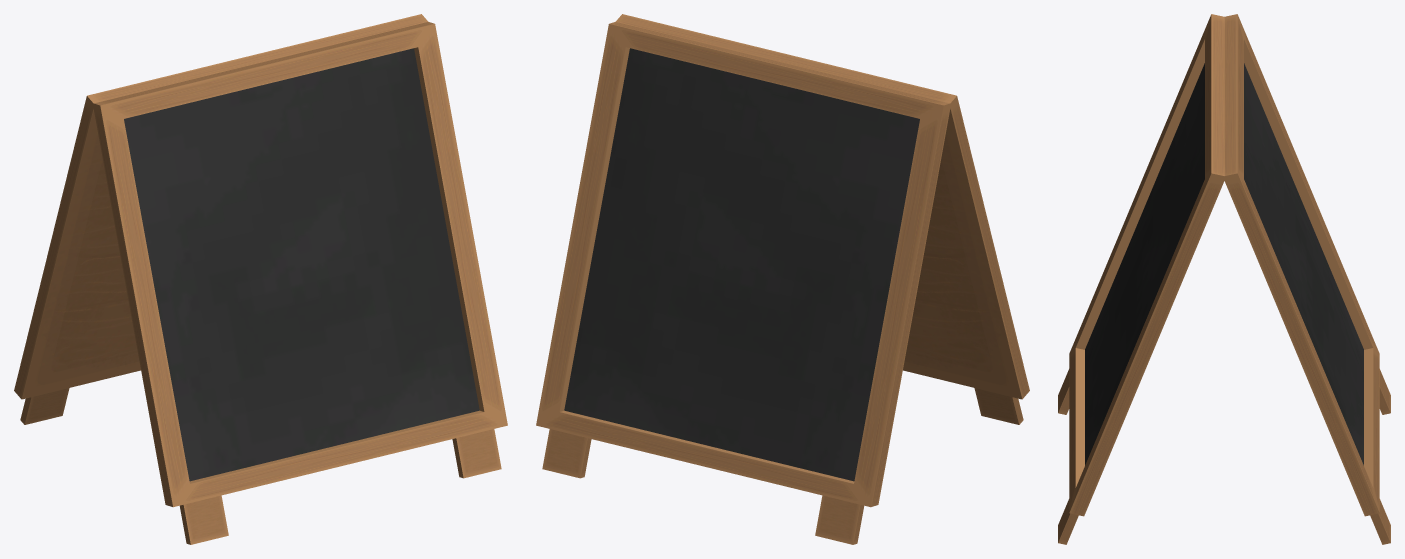
File: ChalkBoardHand.fbx
The picture shows the model from 3 angles, left to right: view 1: azimuth 30°, elevation 25°; view 2: azimuth 150°, elevation 25°; view 3: azimuth 270°, elevation 25°; orthographic projection. The views are drawn at different scales.
Visible parts, largest first — view 1: crate; view 2: crate; view 3: crate.
Boxes of the visible parts, x1,y1,x2,y2 form: crate: (14,14,507,544); crate: (536,14,1029,544); crate: (1058,14,1390,544).
Size of the model in its own units: 0.6831 by 0.754 by 0.6027.
